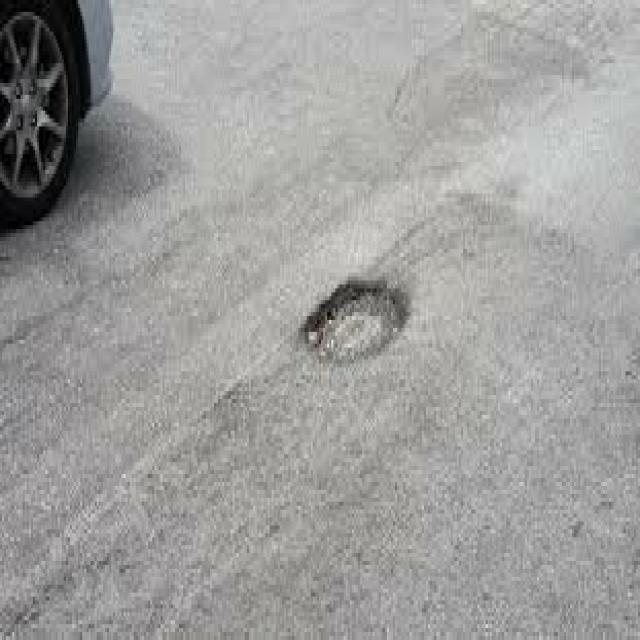Pothole: (299, 274, 414, 366)
